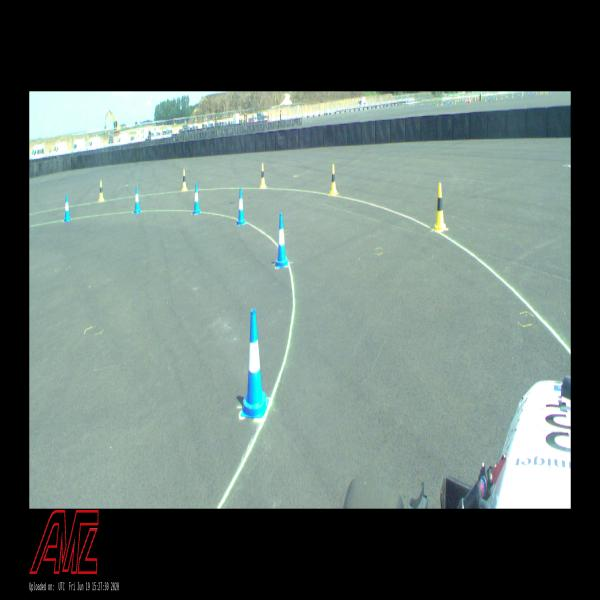blue_cone: (241, 310, 269, 418), (275, 214, 288, 268), (236, 188, 246, 225), (193, 183, 201, 214), (133, 186, 141, 213), (64, 195, 71, 222)
yellow_cone: (433, 182, 448, 230), (329, 164, 339, 196), (259, 163, 267, 189), (98, 180, 104, 202), (182, 169, 188, 190)
